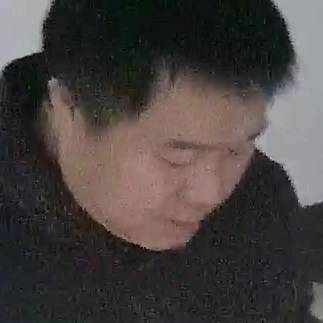cb: (35, 22, 284, 271)
